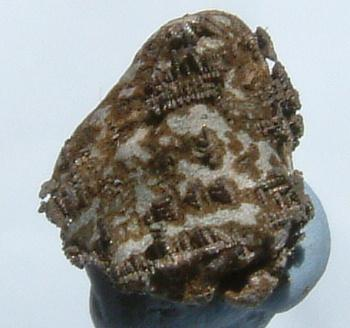silver: (117, 164, 314, 304), (147, 38, 303, 150)
